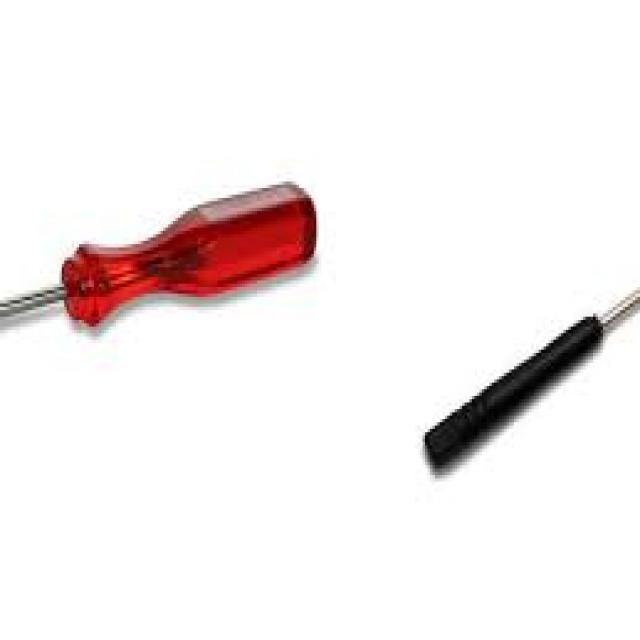screwdriver: (0, 162, 355, 377), (393, 284, 640, 476)
